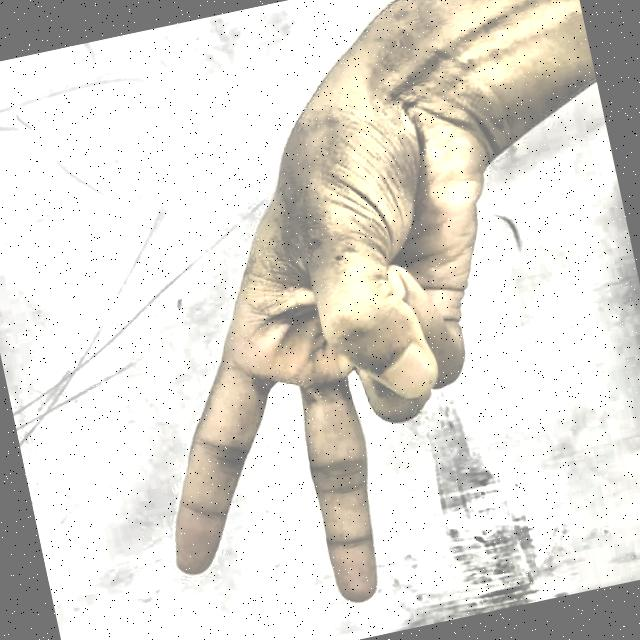Pa: (50, 16, 591, 640)
